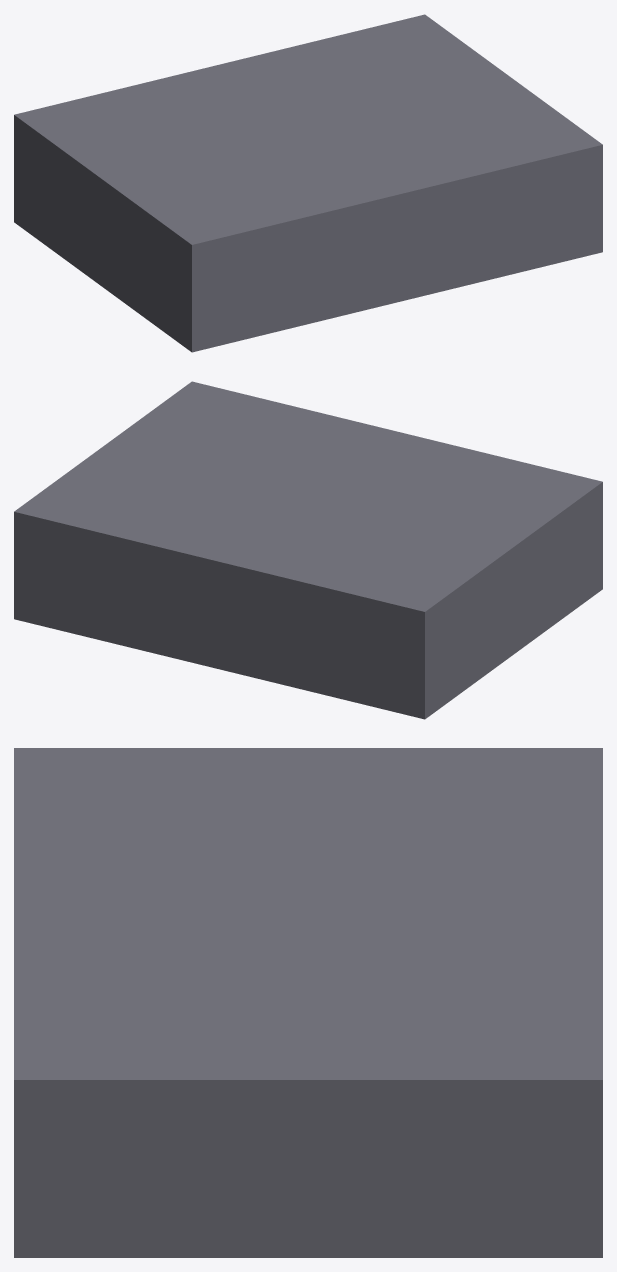
Rendered from Paper.fbx.
3 renders of one model, top to bottom at view 1: azimuth 30°, elevation 25°; view 2: azimuth 150°, elevation 25°; view 3: azimuth 270°, elevation 25°, orthographic. The views are drawn at different scales.
Parts seen in each view (by area): view 1: Paper; view 2: Paper; view 3: Paper.
Boxes of the visible parts, x1,y1,x2,y2 form: Paper: [14, 14, 602, 352]; Paper: [14, 381, 602, 719]; Paper: [14, 748, 602, 1257].
Size of the model in its own units: 40 by 10 by 30.
